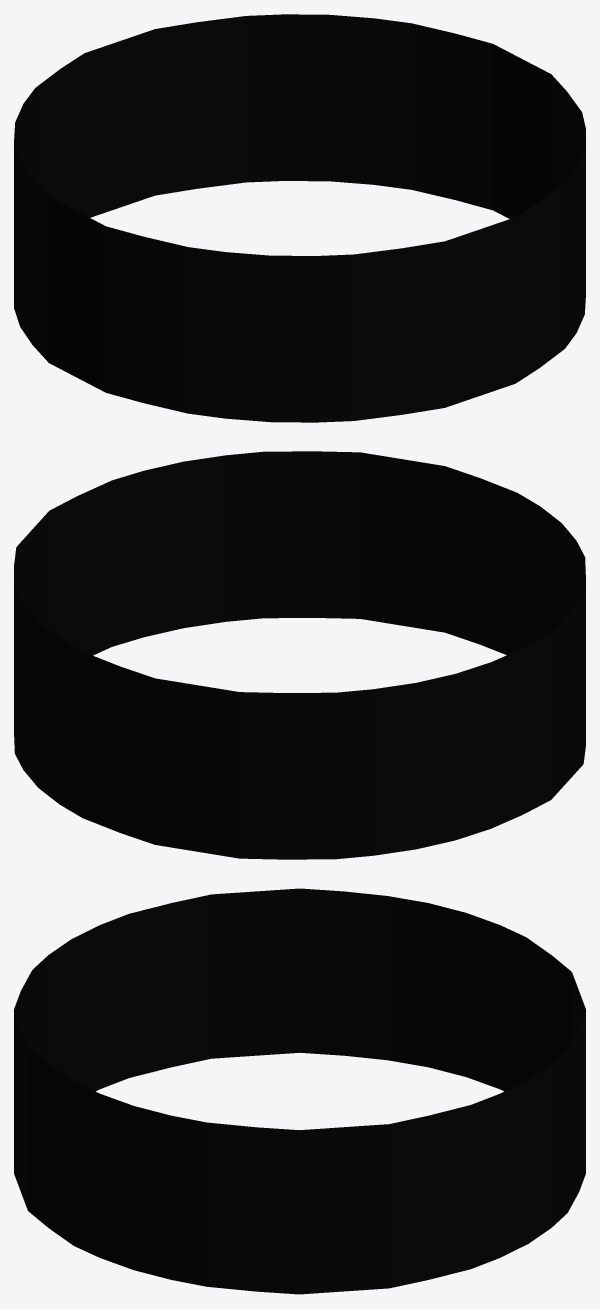
The model's file is saku.fbx.
3 views of the same model, one above another, from view 1: azimuth 30°, elevation 25°; view 2: azimuth 150°, elevation 25°; view 3: azimuth 270°, elevation 25° (orthographic).
Parts seen in each view (by area): view 1: polySurface52; view 2: polySurface52; view 3: polySurface52.
Part boxes in pixels (x1,y1,x2,y2): polySurface52: [14, 14, 585, 422]; polySurface52: [14, 451, 585, 859]; polySurface52: [14, 888, 585, 1294].
Bounding box in the file's own units: 59.99 × 19.01 × 59.99.
1 material, 1 textured.
